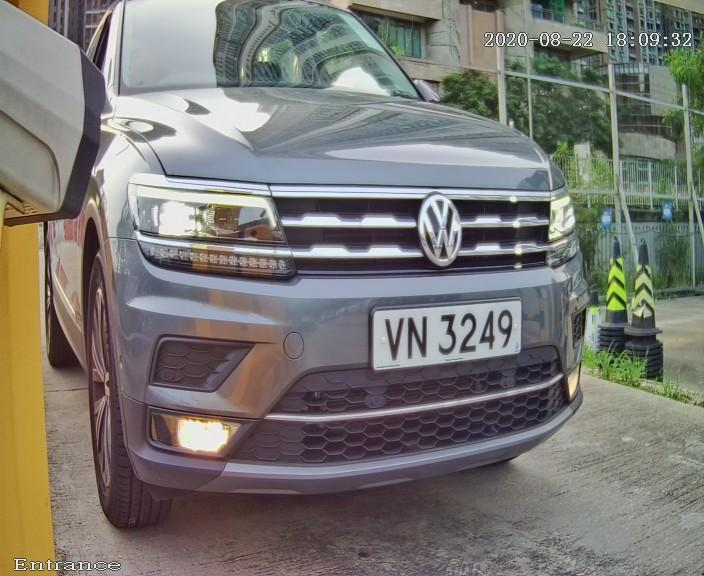Car: (7, 1, 642, 538)
License Plate: (365, 291, 525, 381)
